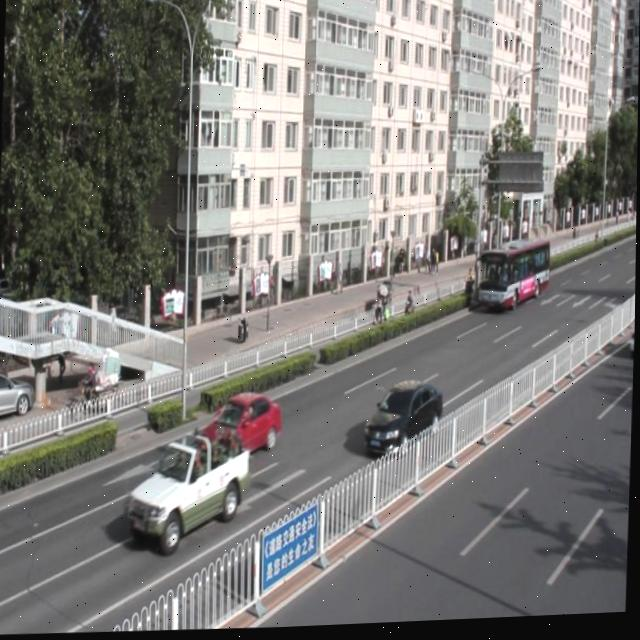car: (126, 429, 250, 553), (365, 381, 443, 460), (196, 390, 282, 460), (628, 318, 636, 360)
van: (478, 238, 550, 314)
